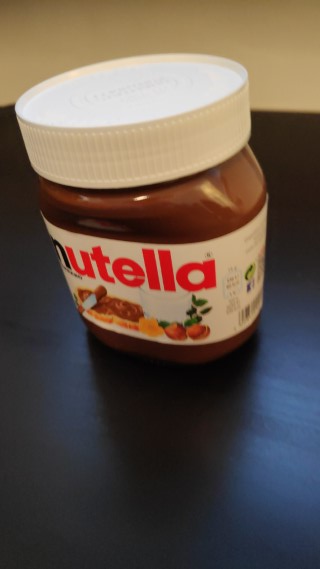nutella: (13, 50, 273, 369)
